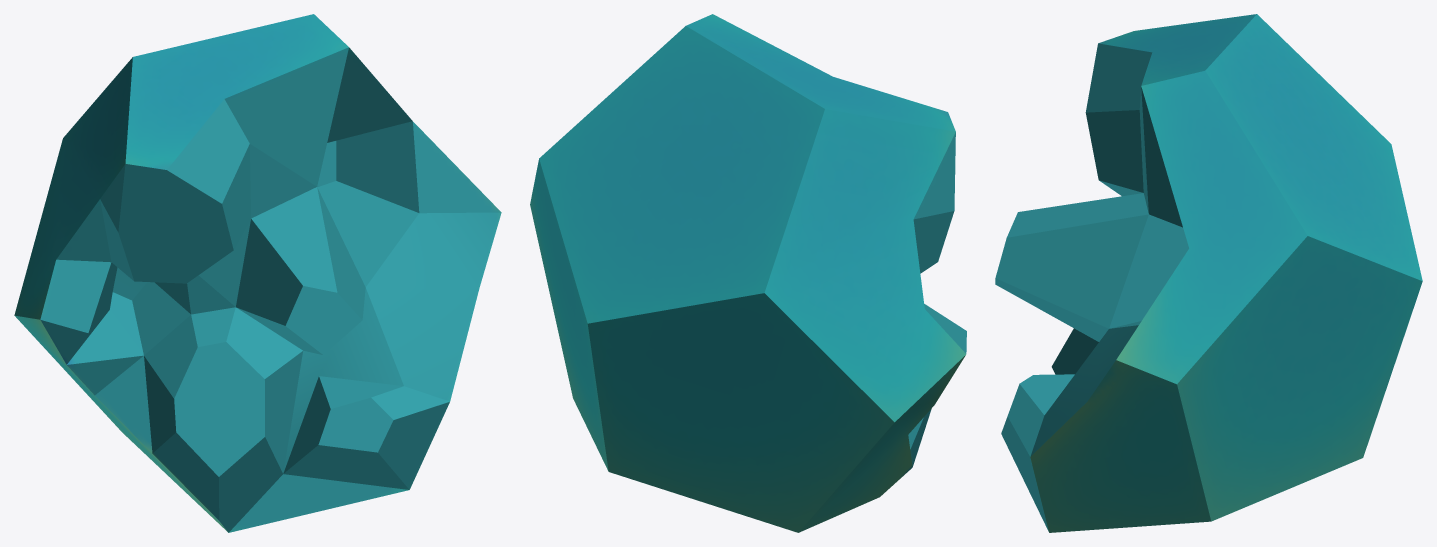
The model's file is p_mesh_quartz_part04.fbx.
3 views of the same model, side by side, from view 1: azimuth 30°, elevation 25°; view 2: azimuth 150°, elevation 25°; view 3: azimuth 270°, elevation 25° (orthographic). The views are drawn at different scales.
Parts seen in each view (by area): view 1: p_quartz_part04_lp; view 2: p_quartz_part04_lp; view 3: p_quartz_part04_lp.
Boxes of the visible parts, left/top/right/bottom form: p_quartz_part04_lp: left=14, top=14, right=501, bottom=532; p_quartz_part04_lp: left=530, top=14, right=966, bottom=532; p_quartz_part04_lp: left=995, top=14, right=1422, bottom=532.
Size of the model in its own units: 3.56 by 3.56 by 2.9.
